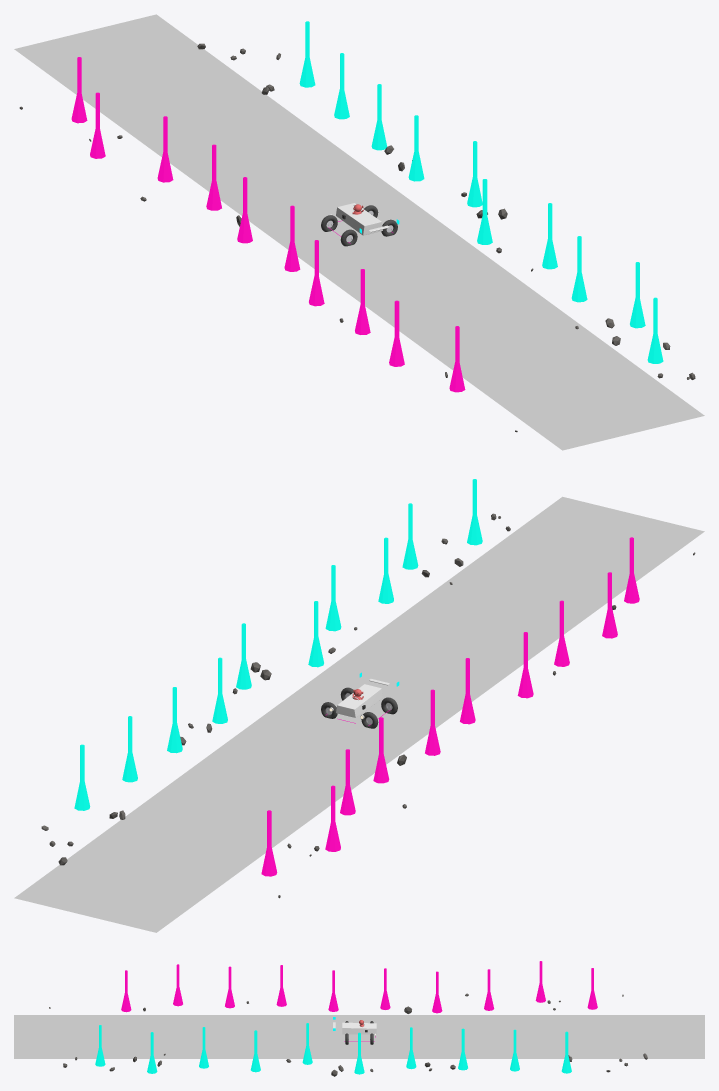
Rendered from mad-scene-complete.glb.
3 renders of one model, top to bottom at view 1: azimuth 30°, elevation 25°; view 2: azimuth 150°, elevation 25°; view 3: azimuth 270°, elevation 25°, orthographic. The views are drawn at different scales.
Visible parts, largest first — view 1: TrackSurface, CarBody_v6; view 2: TrackSurface, CarBody_v6; view 3: TrackSurface, CarBody_v6.
Boxes of the visible parts, left/top/right/bottom form: TrackSurface: left=14, top=14, right=704, bottom=450; CarBody_v6: left=336, top=203, right=382, bottom=235; TrackSurface: left=14, top=496, right=704, bottom=932; CarBody_v6: left=336, top=684, right=382, bottom=717; TrackSurface: left=14, top=1015, right=704, bottom=1058; CarBody_v6: left=342, top=1022, right=376, bottom=1034.
Bounding box in the file's own units: 10.98 × 2.62 × 40.
